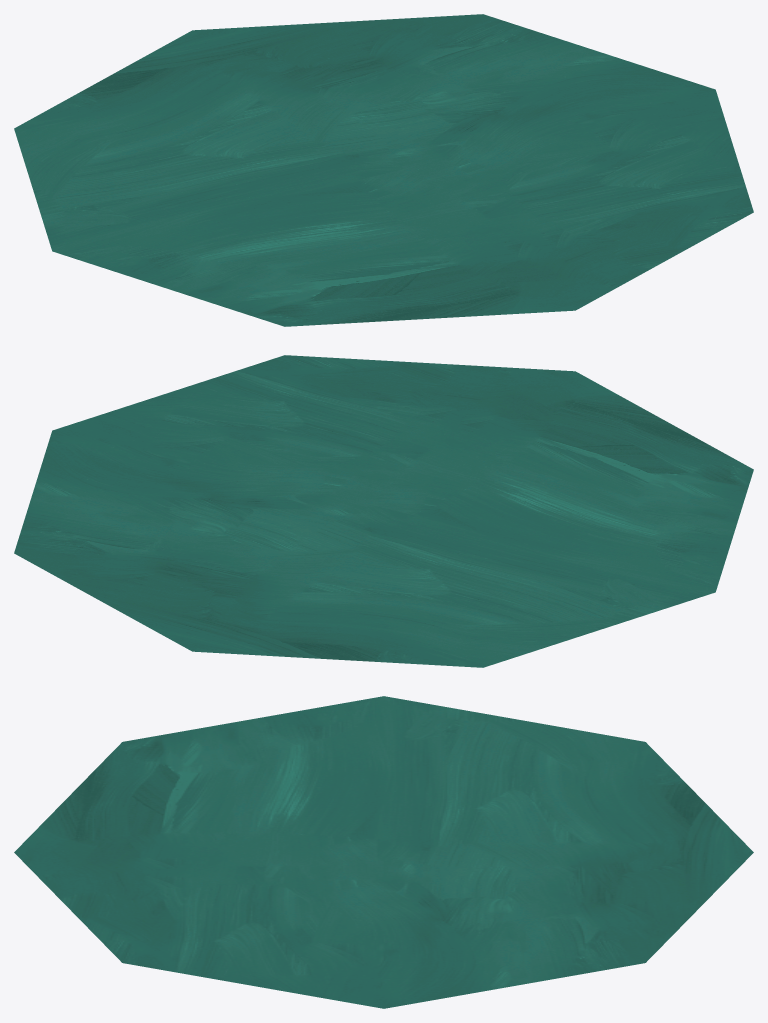
The model's file is SM_Ground_02.fbx.
3 renders of one model, top to bottom at view 1: azimuth 30°, elevation 25°; view 2: azimuth 150°, elevation 25°; view 3: azimuth 270°, elevation 25°, orthographic. The views are drawn at different scales.
Parts seen in each view (by area): view 1: SM_Ring_Top; view 2: SM_Ring_Top; view 3: SM_Ring_Top.
Part boxes in pixels (<box>): SM_Ring_Top: <box>14,14,753,326</box>; SM_Ring_Top: <box>14,355,753,667</box>; SM_Ring_Top: <box>14,696,753,1008</box>.
Bounding box in the file's own units: 4007 × 0.000653 × 4007.
